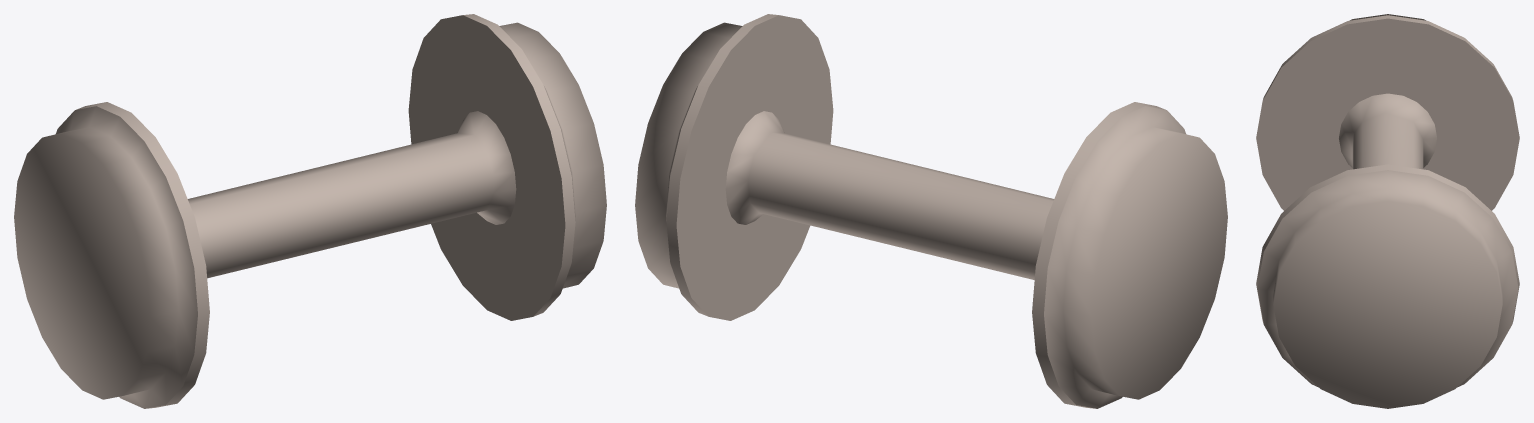
File: S_wheel.fbx
3 renders of one model, left to right at view 1: azimuth 30°, elevation 25°; view 2: azimuth 150°, elevation 25°; view 3: azimuth 270°, elevation 25°, orthographic. The views are drawn at different scales.
Visible parts, largest first — view 1: S_Wheel; view 2: S_Wheel; view 3: S_Wheel.
Boxes of the visible parts, x1,y1,x2,y2 form: S_Wheel: (14, 14, 606, 408); S_Wheel: (635, 14, 1227, 408); S_Wheel: (1256, 14, 1519, 408).
Bounding box in the file's own units: 225 × 134 × 134.
